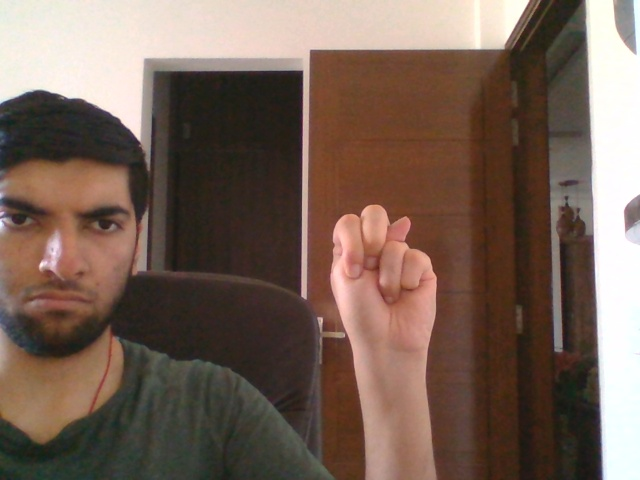LetterN: (329, 202, 437, 361)
